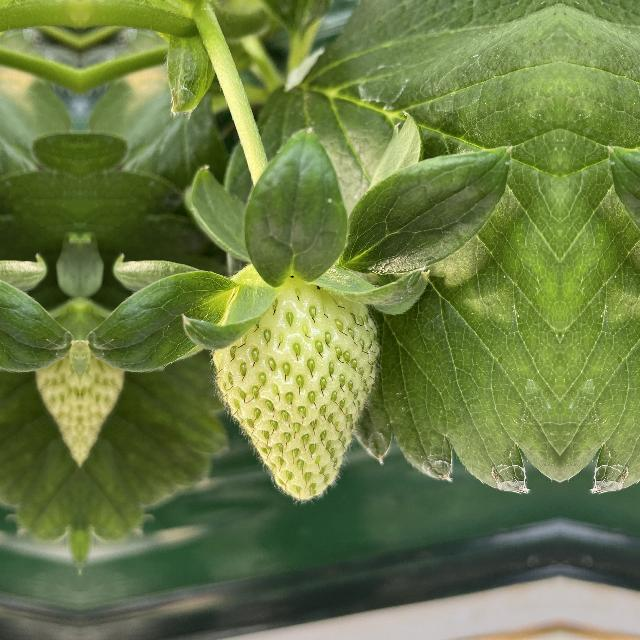Health_25: (210, 268, 380, 502)
